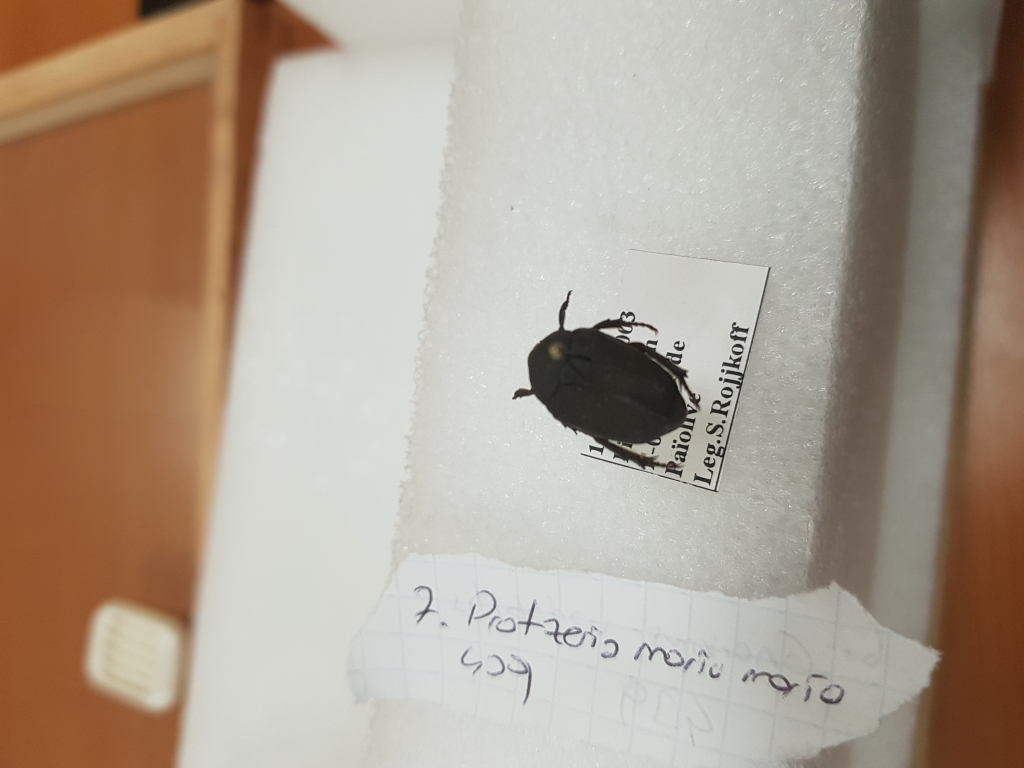Protaetia_morio_morio: (506, 281, 704, 486)
